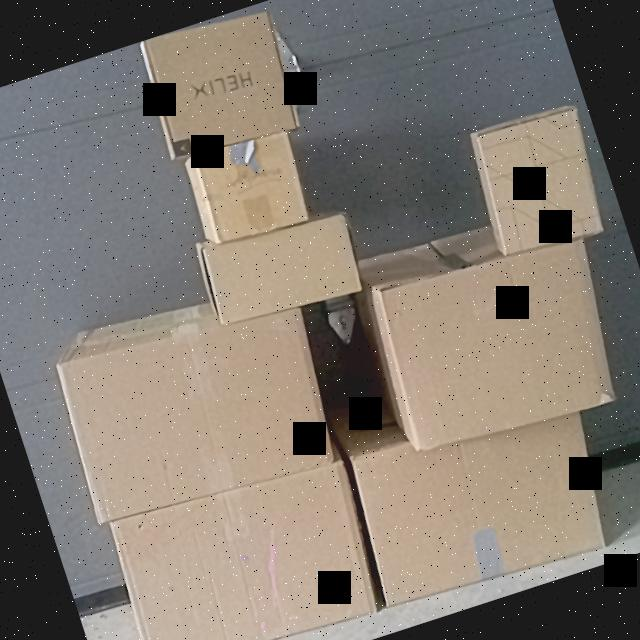box: (52, 290, 334, 532), (376, 235, 625, 461), (350, 404, 607, 604), (106, 456, 379, 640), (138, 3, 302, 169), (478, 109, 604, 258), (201, 214, 362, 329), (194, 124, 312, 250)
